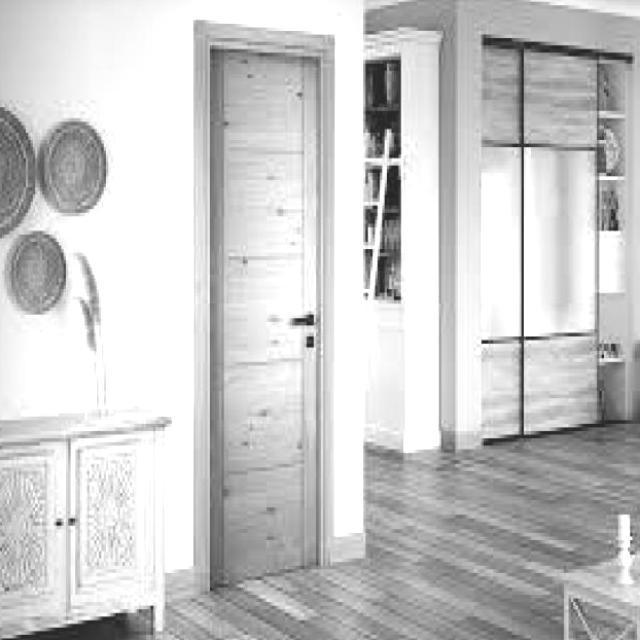door: (207, 38, 324, 588)
